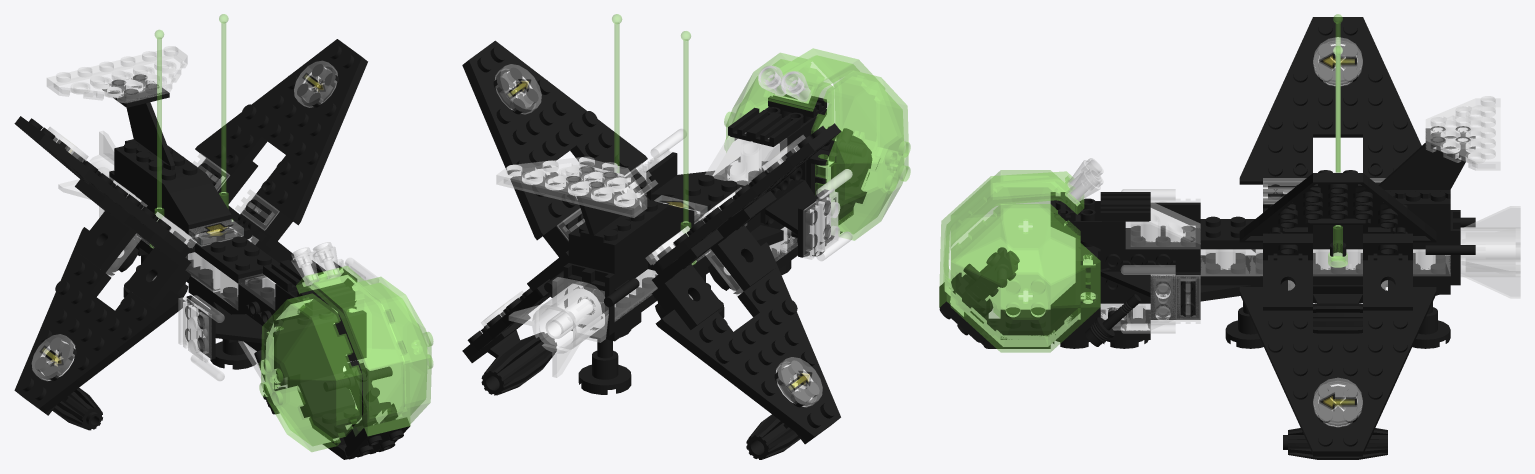
File: avenger.glb
The picture shows the model from 3 angles, left to right: view 1: azimuth 30°, elevation 25°; view 2: azimuth 150°, elevation 25°; view 3: azimuth 270°, elevation 25°; orthographic projection. The views are drawn at different scales.
Parts seen in each view (by area): view 1: Piece029, Piece093, Piece051, Piece087, Piece092, Piece056, Piece062, Piece035, Piece030, Piece041, Piece021, Piece022 (+41 smaller); view 2: Piece029, Piece051, Piece093, Piece056, Piece087, Piece026, Piece030, Piece048, Piece036, Piece022, Piece021, Piece092 (+36 smaller); view 3: Piece092, Piece044, Piece030, Piece093, Piece029, Piece087, Piece056, Piece026, Piece019, Piece020, Piece003, Piece066 (+35 smaller).
Part boxes in pixels (bbox=[...]): Piece029: bbox=[195, 39, 367, 236]; Piece093: bbox=[259, 293, 361, 451]; Piece051: bbox=[14, 227, 190, 413]; Piece087: bbox=[296, 266, 410, 436]; Piece092: bbox=[348, 277, 433, 423]; Piece056: bbox=[47, 46, 187, 102]; Piece062: bbox=[249, 287, 342, 382]; Piece035: bbox=[151, 164, 231, 229]; Piece030: bbox=[14, 116, 191, 257]; Piece041: bbox=[102, 74, 174, 170]; Piece021: bbox=[124, 215, 191, 308]; Piece022: bbox=[75, 179, 136, 272]; Piece029: bbox=[462, 40, 651, 251]; Piece051: bbox=[652, 242, 840, 441]; Piece093: bbox=[811, 70, 910, 240]; Piece056: bbox=[496, 157, 646, 217]; Piece087: bbox=[763, 48, 884, 169]; Piece026: bbox=[509, 277, 608, 377]; Piece030: bbox=[652, 123, 840, 274]; Piece048: bbox=[469, 314, 556, 395]; Piece036: bbox=[568, 210, 654, 273]; Piece022: bbox=[652, 229, 723, 329]; Piece021: bbox=[710, 190, 776, 291]; Piece092: bbox=[724, 53, 833, 152]; Piece092: bbox=[951, 204, 1100, 352]; Piece044: bbox=[1239, 280, 1436, 454]; Piece030: bbox=[1239, 17, 1421, 208]; Piece093: bbox=[951, 170, 1075, 317]; Piece029: bbox=[1239, 170, 1436, 242]; Piece087: bbox=[939, 171, 1083, 316]; Piece056: bbox=[1426, 96, 1500, 170]; Piece026: bbox=[1460, 206, 1520, 298]; Piece019: bbox=[1363, 231, 1412, 310]; Piece020: bbox=[1263, 231, 1312, 310]; Piece003: bbox=[1200, 253, 1450, 285]; Piece066: bbox=[1100, 260, 1200, 319].
Bounding box in the file's own units: 123 × 130 × 186.
Materials: 5 (2 with a texture image).
